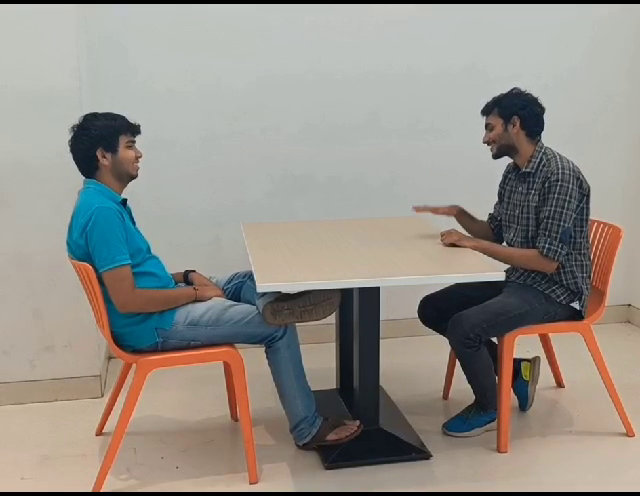person: (67, 107, 144, 186), (476, 84, 553, 163)
